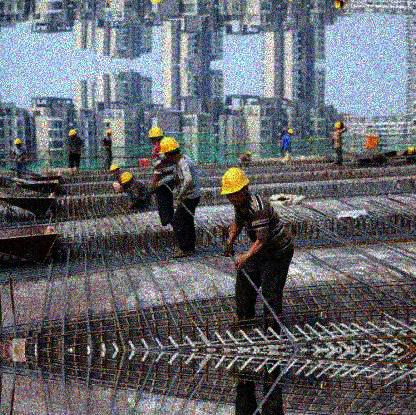helmet: (221, 166, 251, 209), (160, 136, 184, 163), (149, 127, 165, 143), (121, 171, 135, 185), (108, 164, 121, 176), (13, 137, 24, 148), (67, 129, 77, 140), (333, 122, 344, 132), (286, 129, 294, 138), (105, 130, 113, 137)
